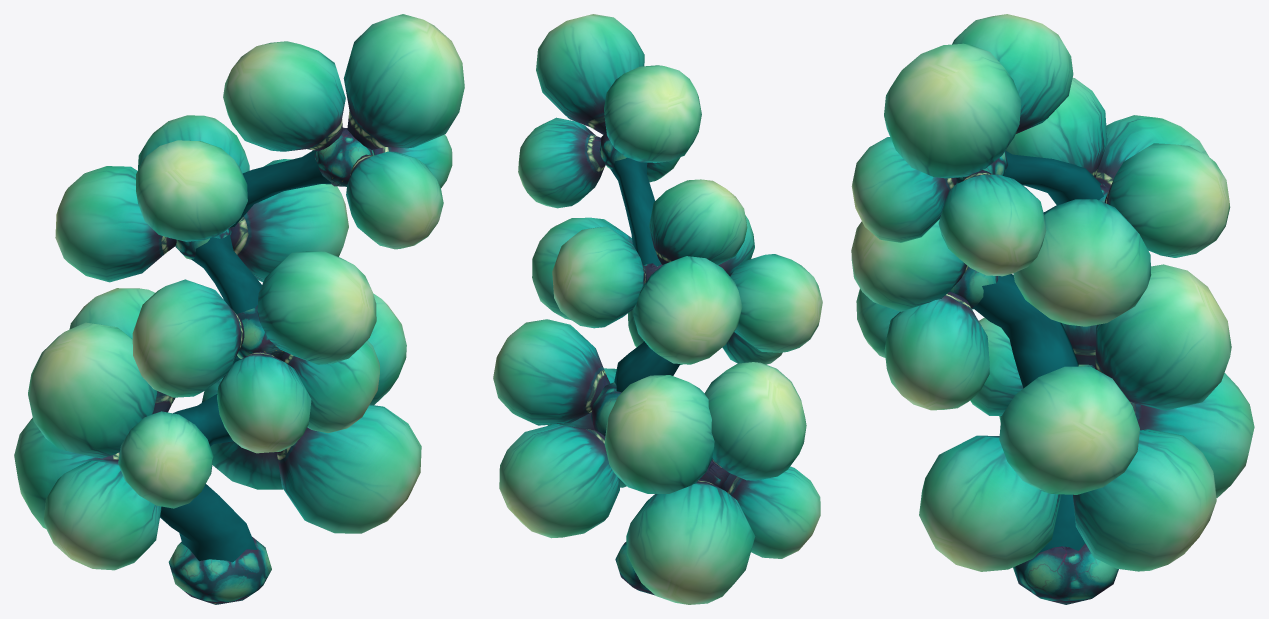
Rendered from Bio_cargo_01_b.fbx.
3 renders of one model, left to right at view 1: azimuth 30°, elevation 25°; view 2: azimuth 150°, elevation 25°; view 3: azimuth 270°, elevation 25°, orthographic. The views are drawn at different scales.
Parts seen in each view (by area): view 1: Bio_cargo_01_b; view 2: Bio_cargo_01_b; view 3: Bio_cargo_01_b.
Part boxes in pixels (left/top/right/bottom): Bio_cargo_01_b: left=14, top=14, right=464, bottom=604; Bio_cargo_01_b: left=493, top=14, right=822, bottom=604; Bio_cargo_01_b: left=851, top=14, right=1254, bottom=604.
Bounding box in the file's own units: 3.44 × 5.26 × 3.12.
